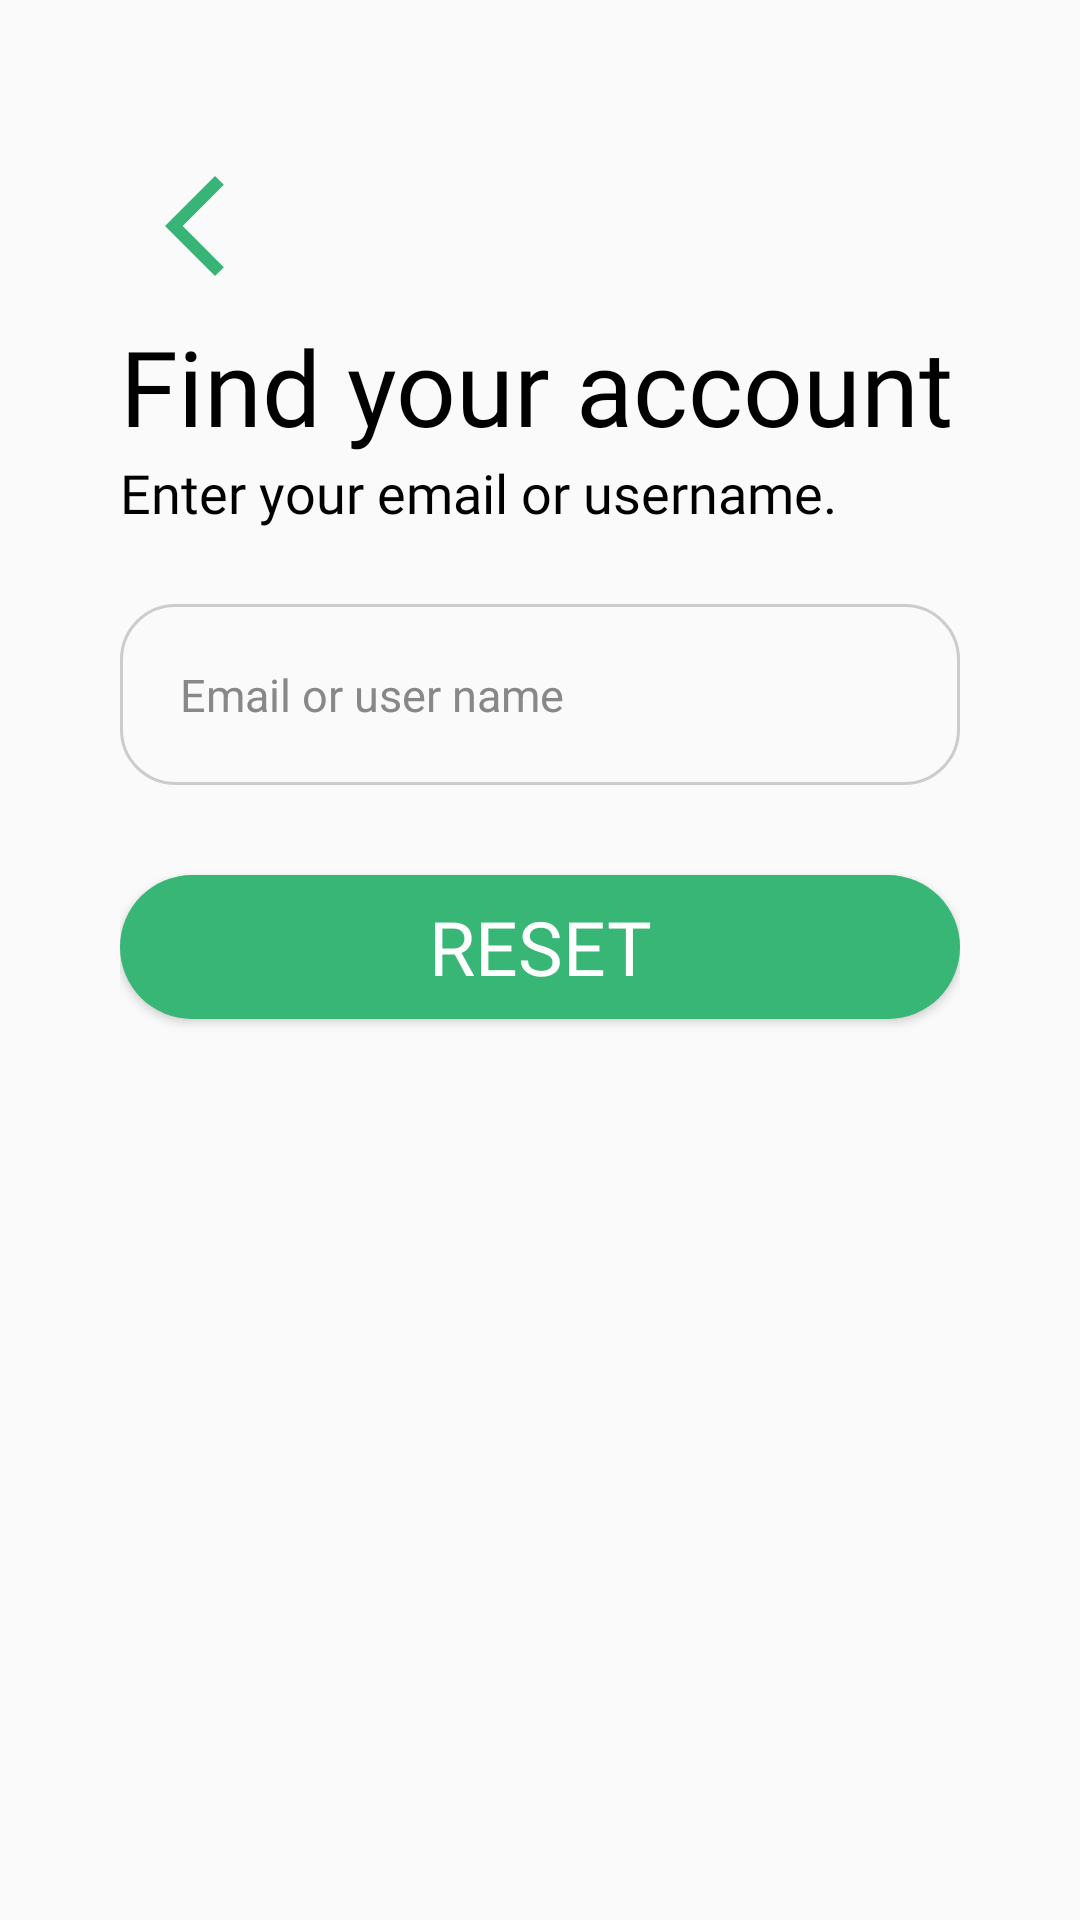

Locate icon controls on the screen. Image size 1080 × 1920, boxes as box=[x1, y1, x2, y2].
Back to Login: box=[165, 176, 224, 276]
